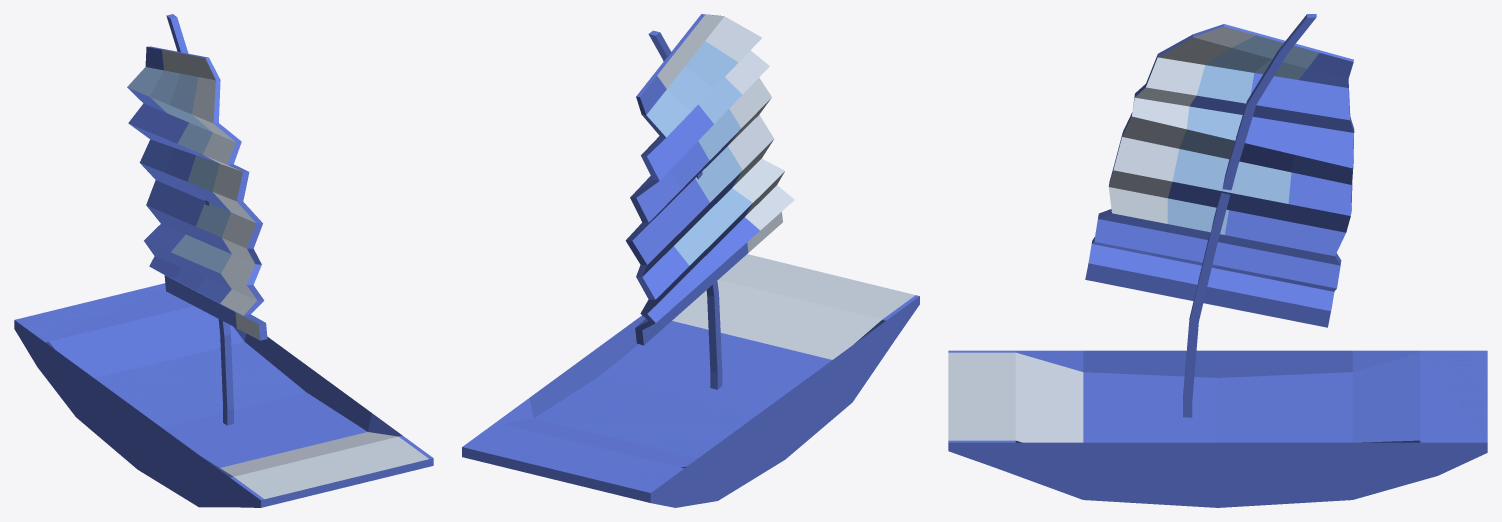
File: high_boat.gltf
The picture shows the model from 3 angles, left to right: view 1: azimuth 30°, elevation 25°; view 2: azimuth 150°, elevation 25°; view 3: azimuth 270°, elevation 25°; orthographic projection. The views are drawn at different scales.
Parts seen in each view (by area): view 1: Cube.001; view 2: Cube.001; view 3: Cube.001.
Part boxes in pixels (x1,y1,x2,y2): Cube.001: (14, 14, 433, 507); Cube.001: (462, 14, 919, 507); Cube.001: (948, 14, 1487, 507).
Bounding box in the file's own units: 3.74 × 8.33 × 9.23.
